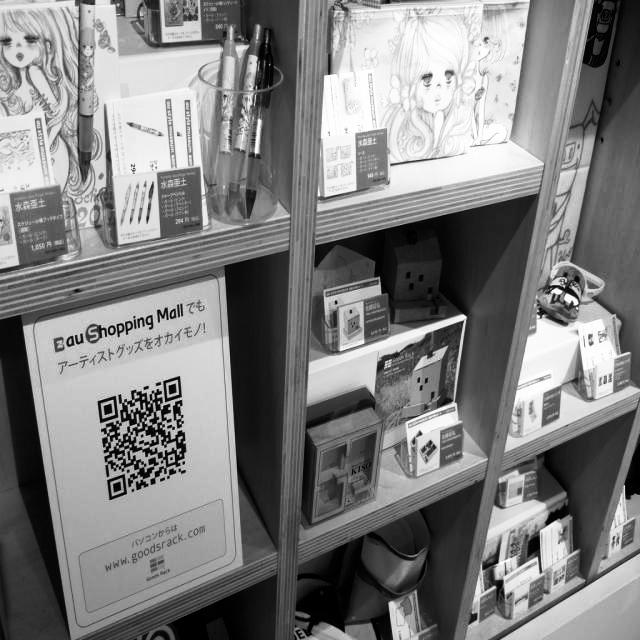qr_code: (98, 376, 188, 500)
